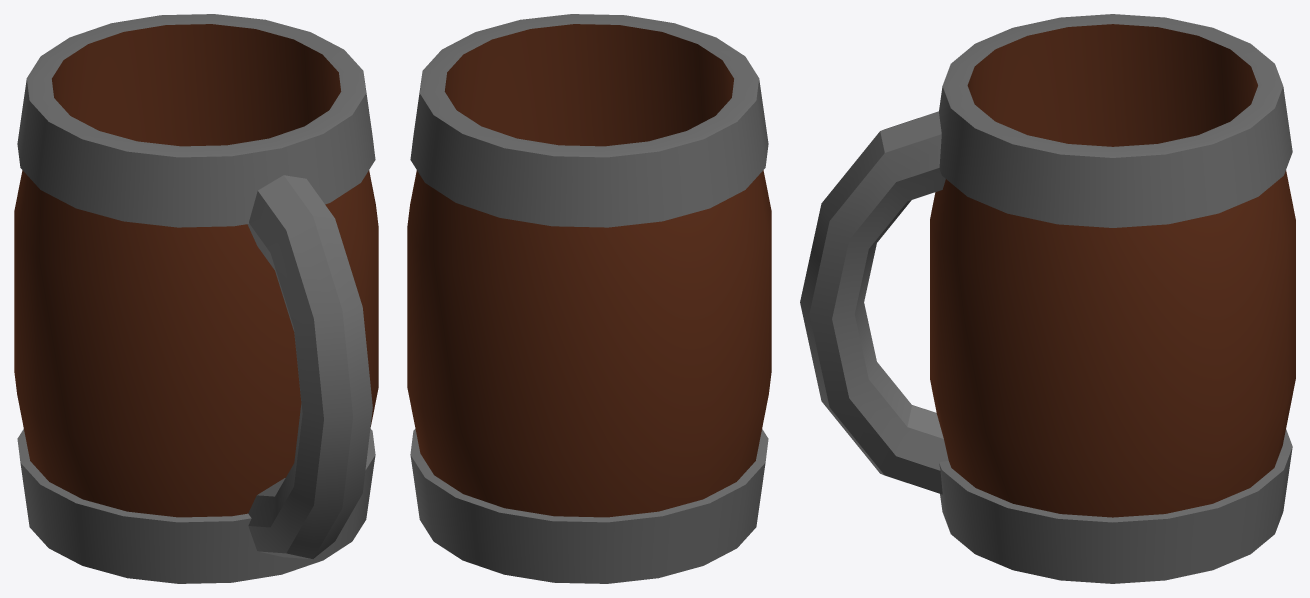
File: tankardEmpty.fbx
3 renders of one model, left to right at view 1: azimuth 30°, elevation 25°; view 2: azimuth 150°, elevation 25°; view 3: azimuth 270°, elevation 25°, orthographic.
Visible parts, largest first — view 1: Tankard Empty; view 2: Tankard Empty; view 3: Tankard Empty.
Boxes of the visible parts, x1,y1,x2,y2 form: Tankard Empty: [14, 14, 378, 583]; Tankard Empty: [407, 14, 771, 583]; Tankard Empty: [800, 14, 1295, 583].
Size of the model in its own units: 14.68 by 19.88 by 18.91.
